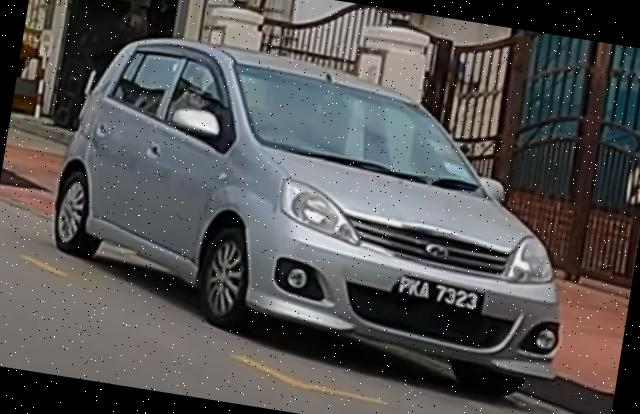License_Plate: (392, 271, 487, 316)
car: (34, 21, 602, 407)
